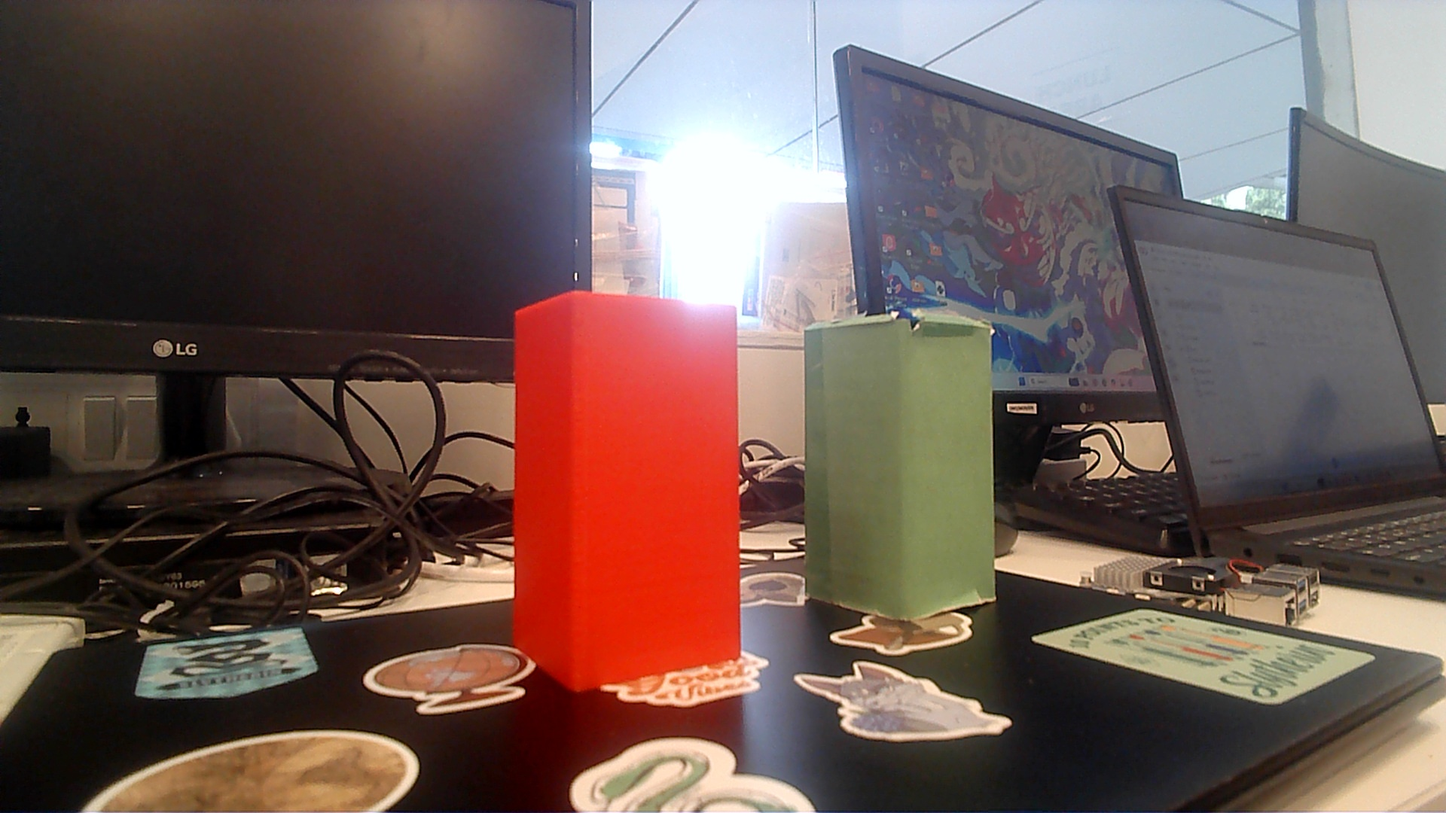red: (509, 294, 746, 680)
